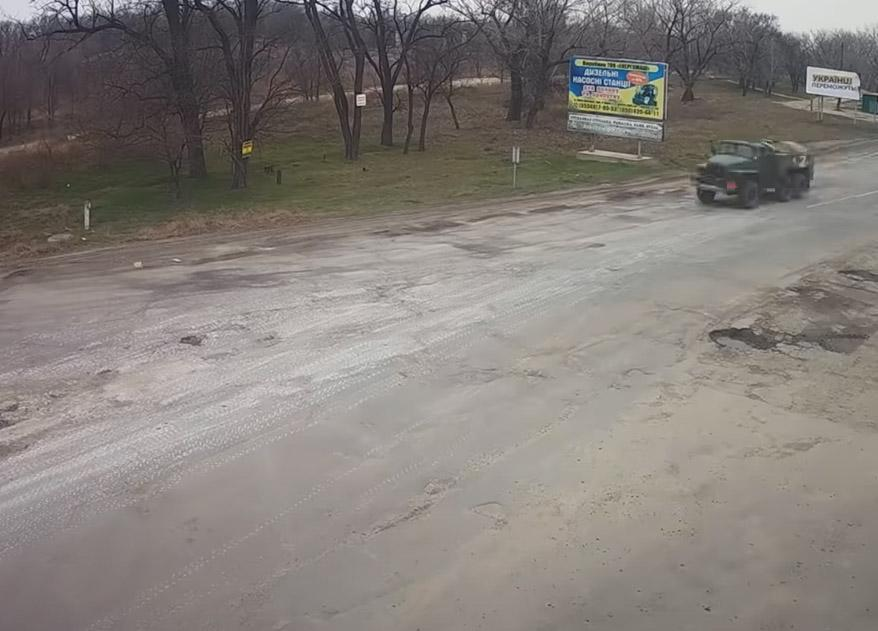truck: (688, 128, 818, 212)
